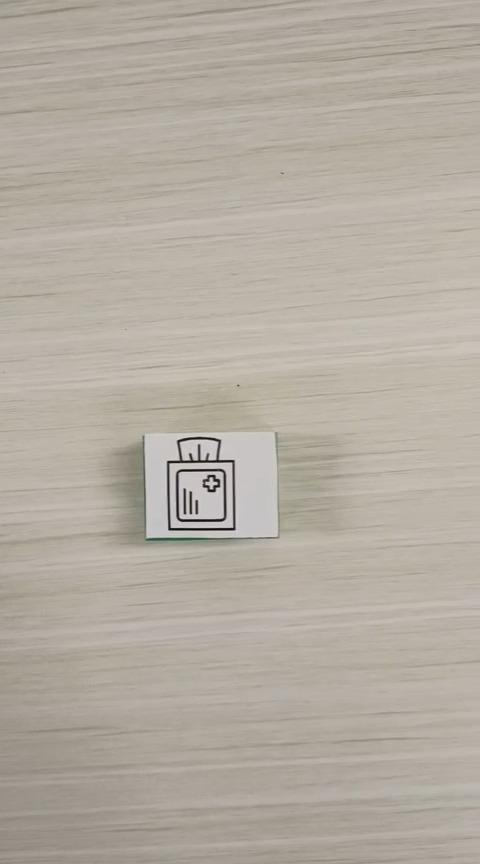Gauze: (141, 429, 279, 540)
